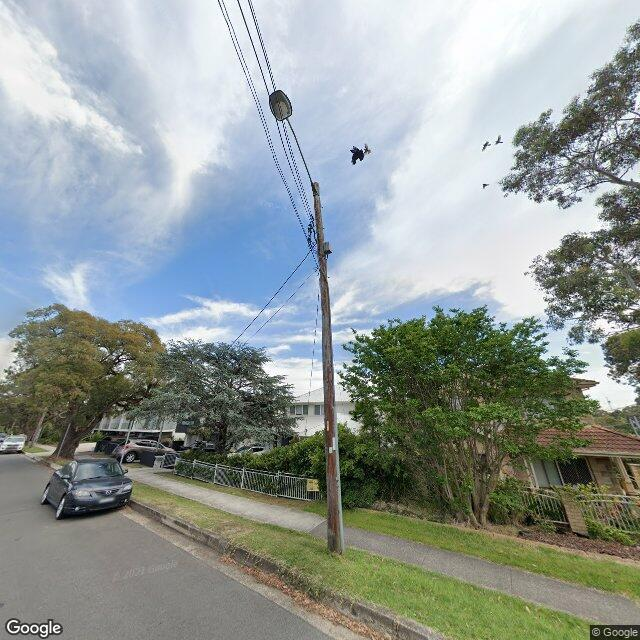streetlight: (268, 90, 320, 197)
timber-pole: (312, 182, 346, 552)
